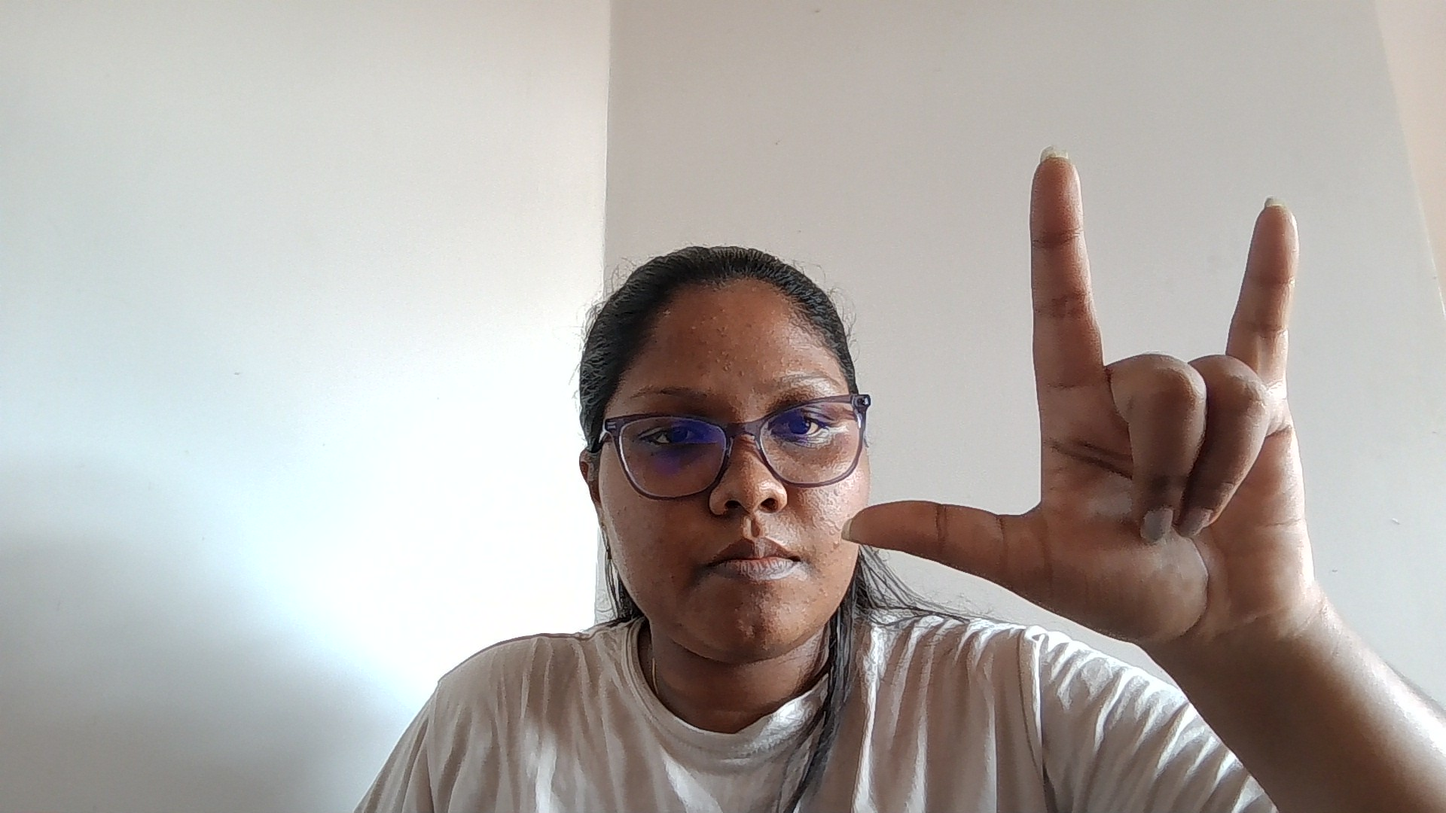I Love You: (853, 93, 1382, 708)
